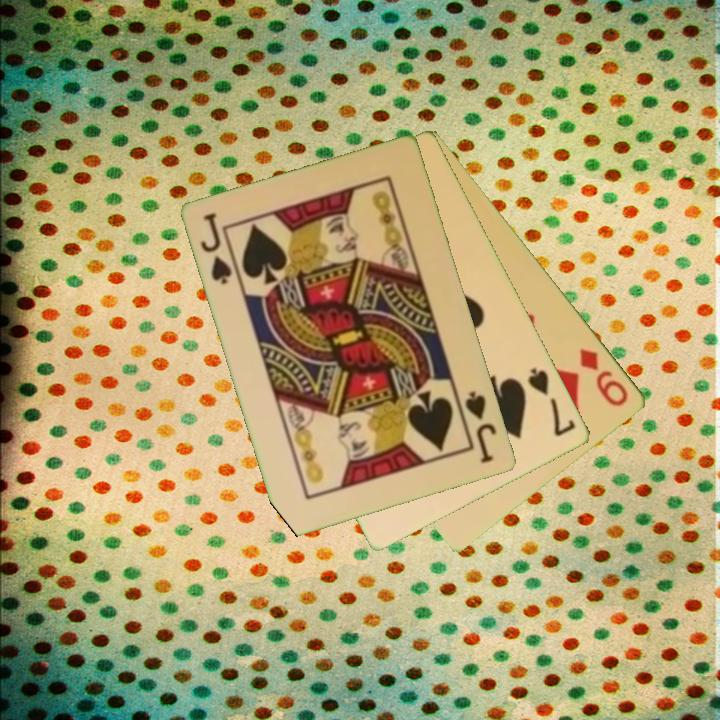7s: (525, 364, 579, 440)
9d: (576, 345, 632, 410)
Js: (461, 387, 500, 466), (197, 209, 236, 288)
